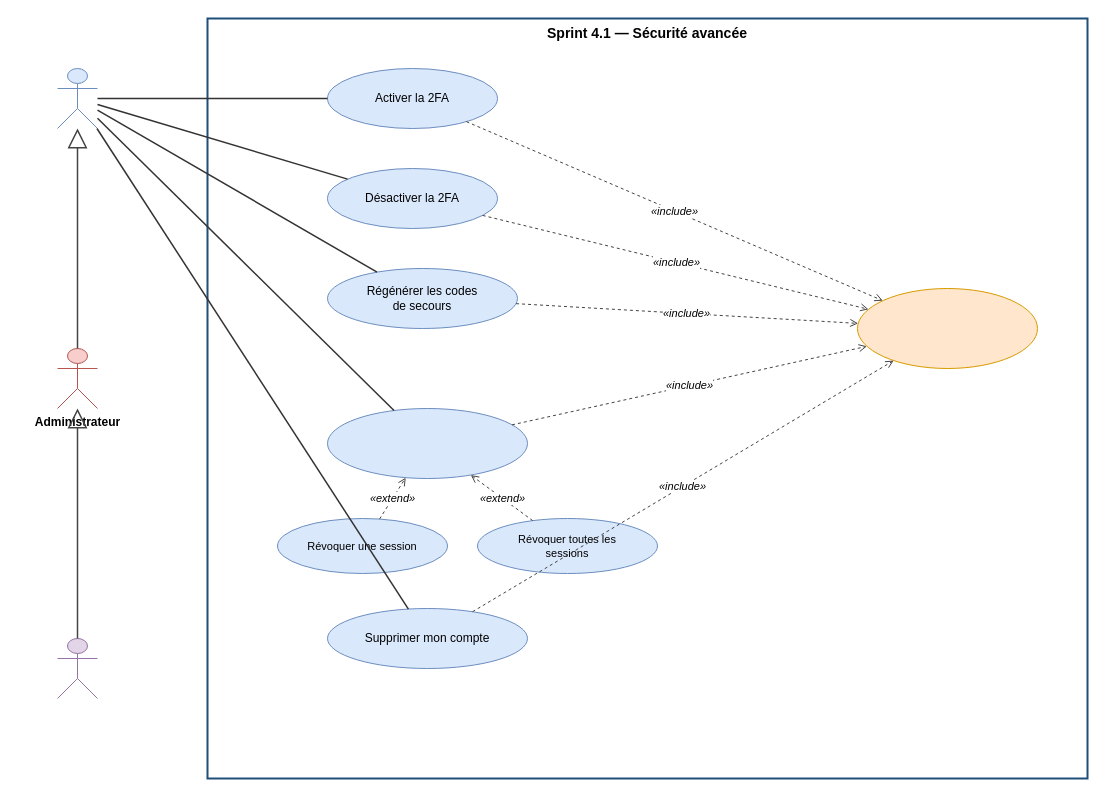
The diagram is 1106 pixels wide and 796 high, and some of its shapes have lost their labels. Each missing label, with the centre of its shape:
"Consulter les sessions actives" belongs at point (427, 443).
"S'authentifier" belongs at point (947, 328).
"Super-administrateur" belongs at point (77, 668).
"Utilisateur" belongs at point (77, 98).
